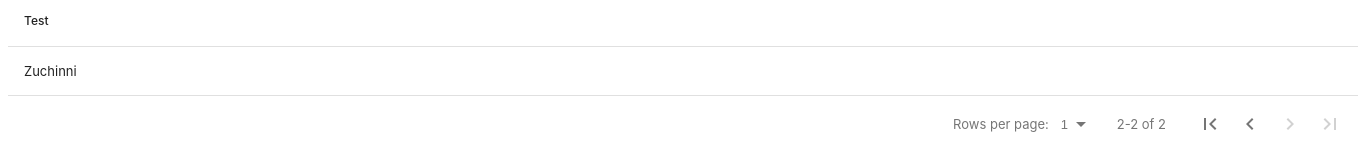
Scenario: DataTable::Pagination › should have the correct amount of rows when paging backward
The image size is (1366, 160).
Click the button named "Previous Page": (1250, 124) x1=1230 y1=104 x2=1270 y2=144
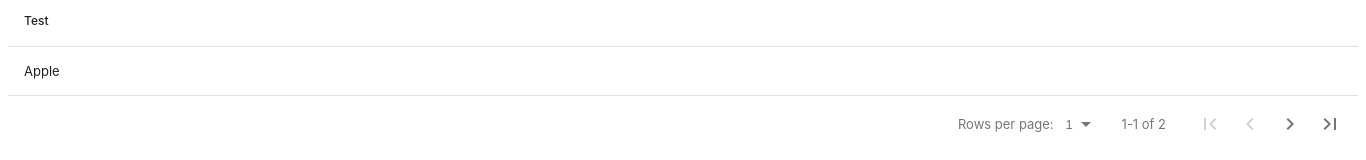
Expected: the row "Apple" is shown, x1=8 y1=47 x2=1358 y2=95
Expected: the row "Zuchinni" is gone
